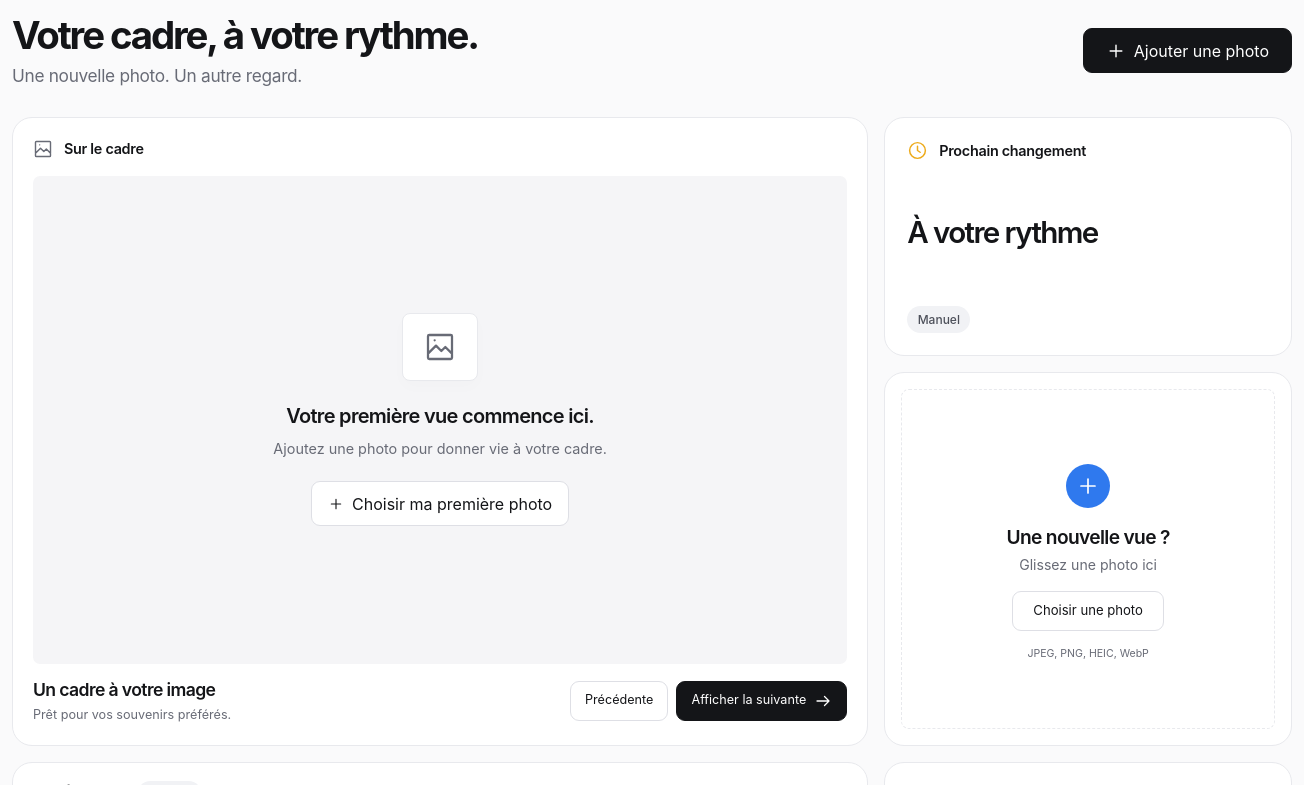
Test: UI stability regressions › shows display navigation errors instead of silently rejecting
Click the button "Afficher la suivante".
click(762, 701)  # box [676, 681, 847, 721]
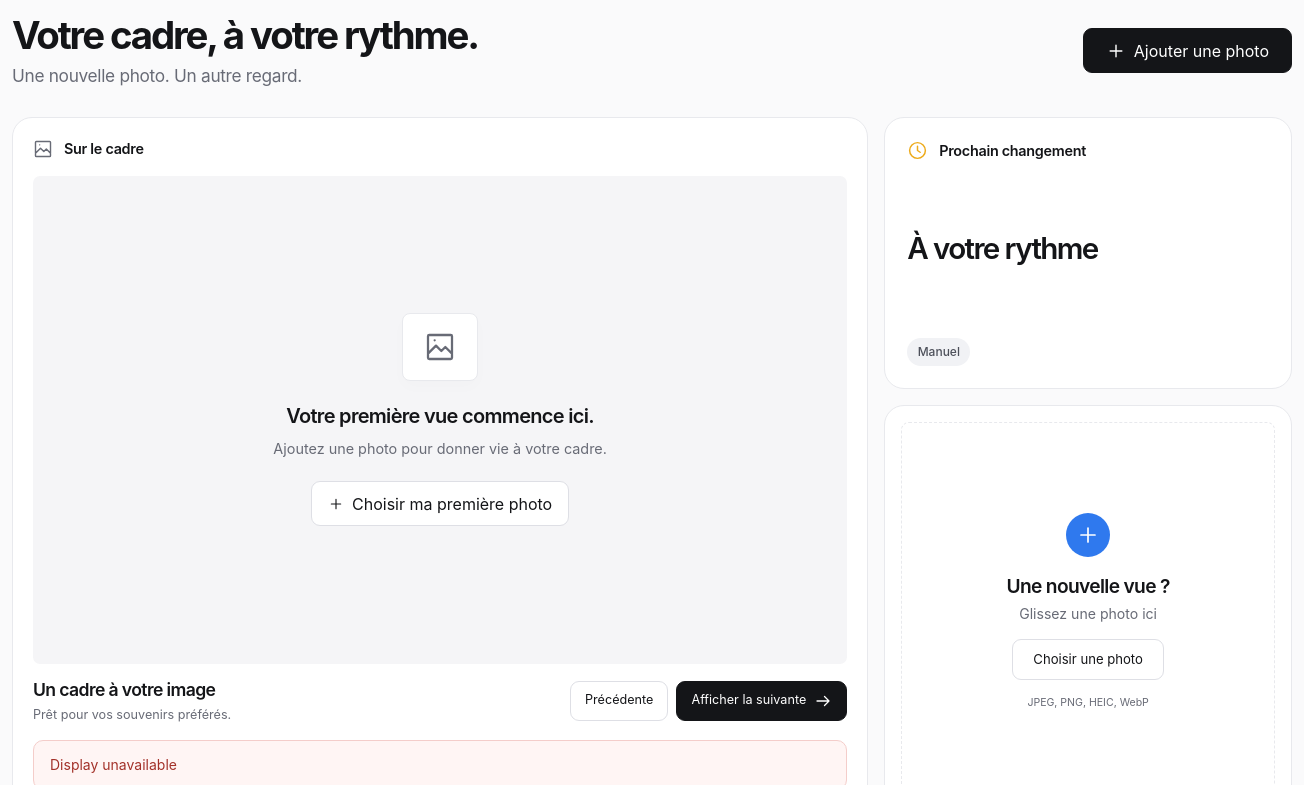
Result: the message reads "Display unavailable" at [50, 756, 177, 773]
